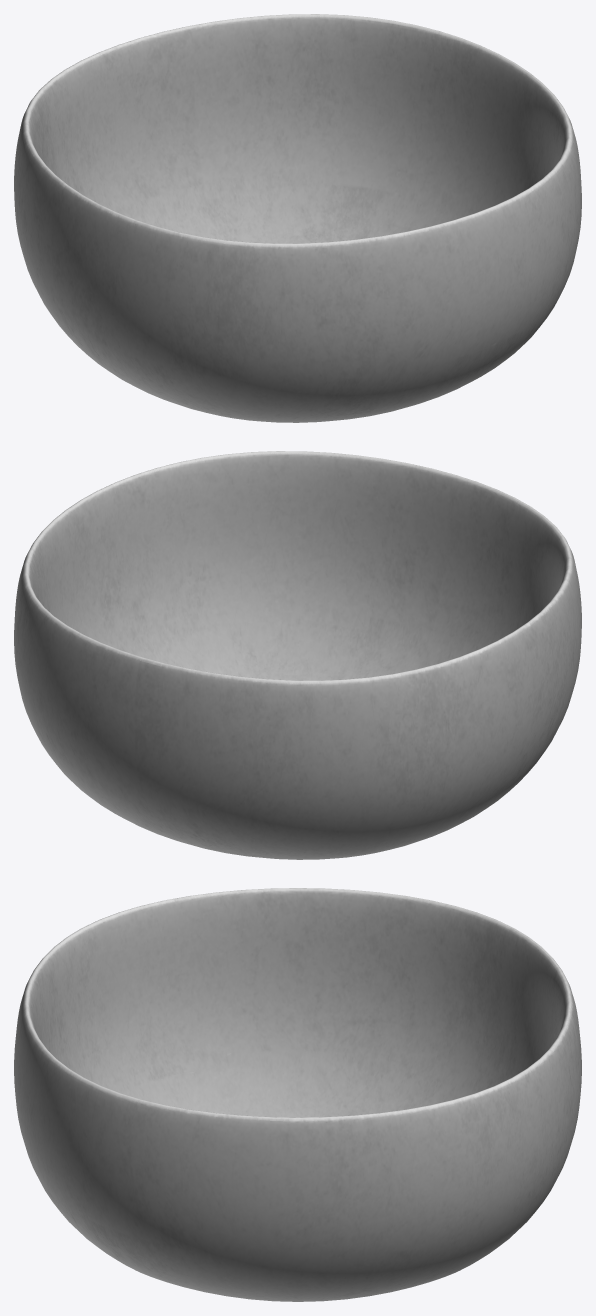
File: Bowl.fbx
The picture shows the model from 3 angles, top to bottom: view 1: azimuth 30°, elevation 25°; view 2: azimuth 150°, elevation 25°; view 3: azimuth 270°, elevation 25°; orthographic projection.
Parts seen in each view (by area): view 1: Object_2; view 2: Object_2; view 3: Object_2.
Boxes of the visible parts, x1,y1,x2,y2 form: Object_2: (14,14,581,422); Object_2: (14,451,581,859); Object_2: (14,888,581,1301).
Size of the model in its own units: 180 by 87.78 by 180.
1 material, 1 textured.
